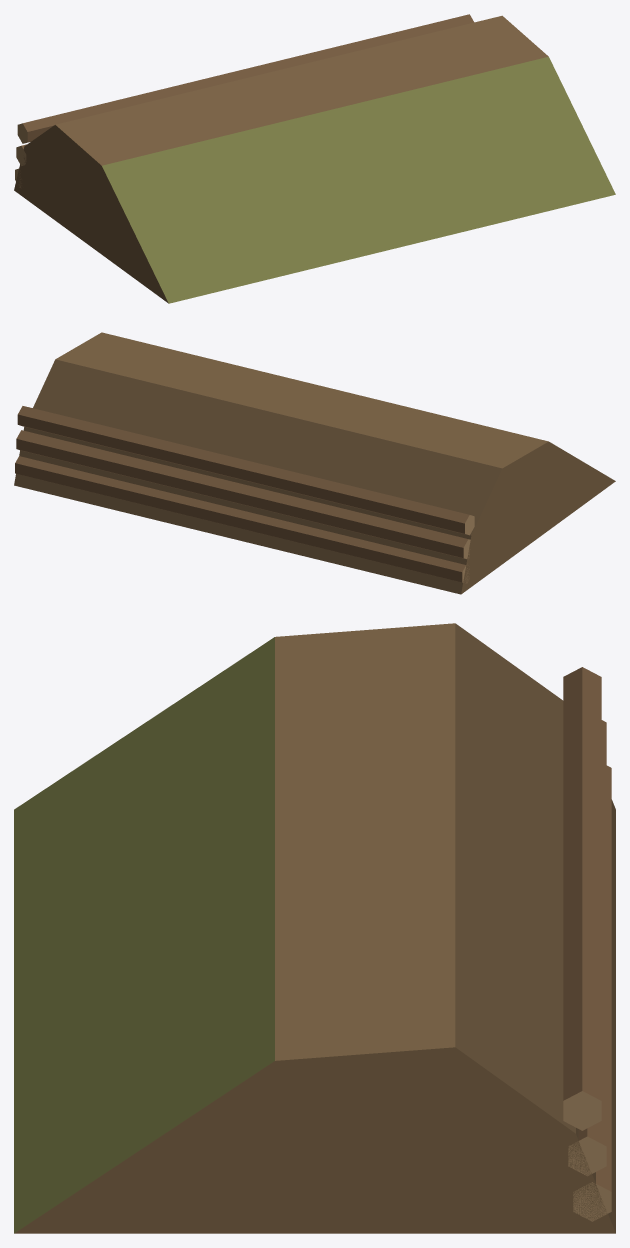
Rendered from earthwork.glb.
3 renders of one model, top to bottom at view 1: azimuth 30°, elevation 25°; view 2: azimuth 150°, elevation 25°; view 3: azimuth 270°, elevation 25°, orthographic. The views are drawn at different scales.
Parts seen in each view (by area): view 1: earthwork; view 2: earthwork; view 3: earthwork.
Part boxes in pixels (x1=…): earthwork: x1=14, y1=14, x2=615, y2=303; earthwork: x1=14, y1=332, x2=615, y2=594; earthwork: x1=14, y1=623, x2=615, y2=1233.
Bounding box in the file's own units: 10 × 2.05 × 6.
